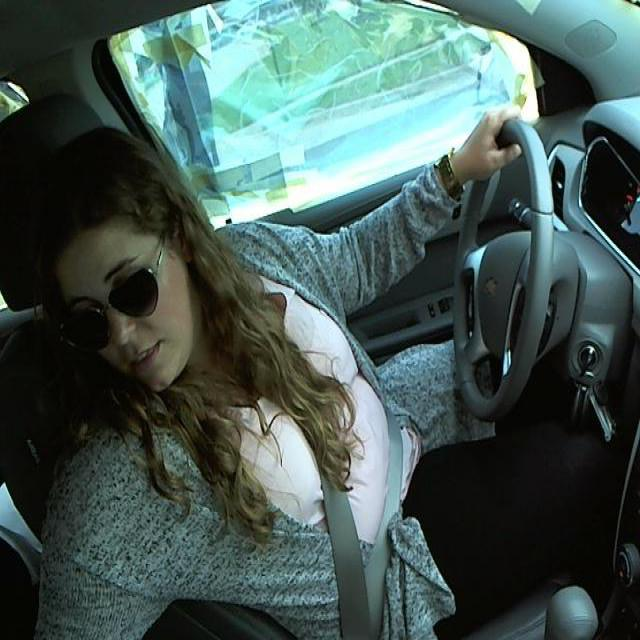seatbelt: (245, 370, 424, 614)
